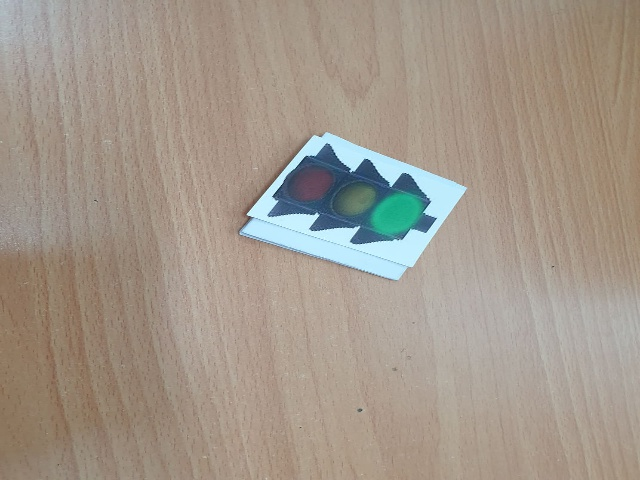Green: (279, 144, 439, 246)
